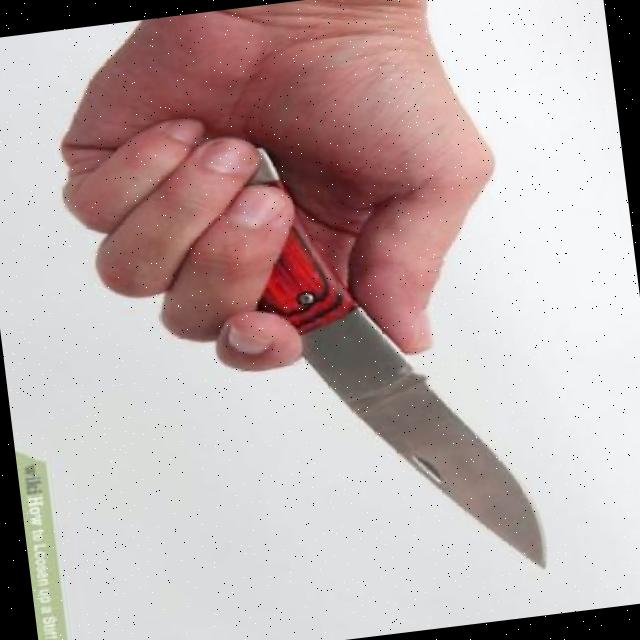Knife: (230, 124, 542, 594)
